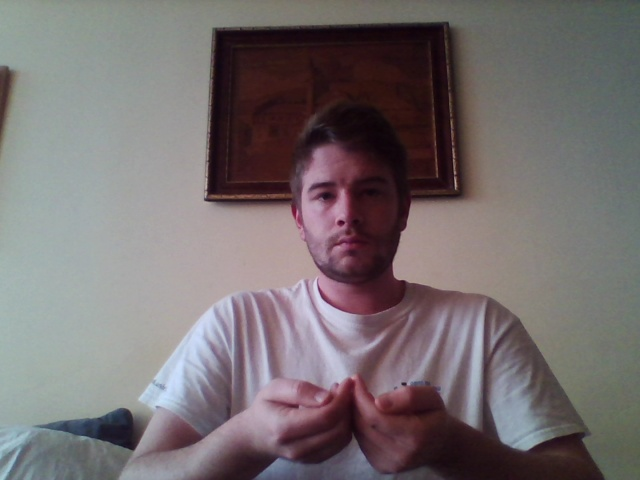kako: (248, 369, 450, 468)
